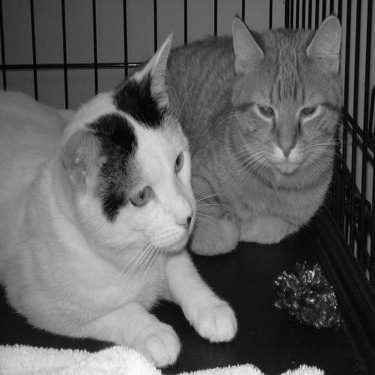cat: (1, 34, 243, 365), (165, 25, 343, 246)
